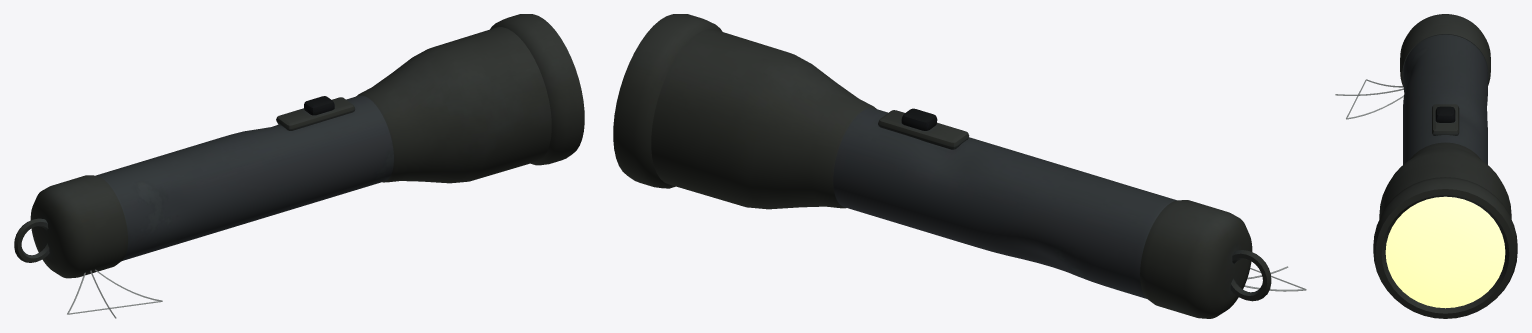
Rendered from flashlight.glb.
3 renders of one model, left to right at view 1: azimuth 30°, elevation 25°; view 2: azimuth 150°, elevation 25°; view 3: azimuth 270°, elevation 25°, orthographic. The views are drawn at different scales.
Parts seen in each view (by area): view 1: flashlight_body, flashlight_web; view 2: flashlight_body; view 3: flashlight_body, flashlight_lens_glow, flashlight_web.
Part boxes in pixels (x1,y1,x2,y2): flashlight_body: [14, 14, 584, 278]; flashlight_web: [67, 269, 162, 318]; flashlight_body: [613, 14, 1271, 318]; flashlight_body: [1373, 14, 1517, 318]; flashlight_lens_glow: [1385, 196, 1505, 308]; flashlight_web: [1335, 79, 1403, 119].
Size of the model in its own units: 0.2675 by 0.0669 by 0.0829.
Materials: 3 (1 with a texture image).
